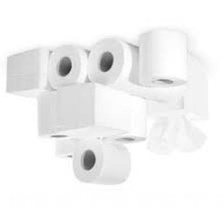tissue: (140, 47, 213, 162), (82, 31, 184, 110), (134, 23, 193, 91), (68, 136, 135, 189), (0, 43, 59, 102), (32, 86, 84, 143), (105, 95, 151, 150), (43, 41, 90, 92), (51, 136, 80, 164)
